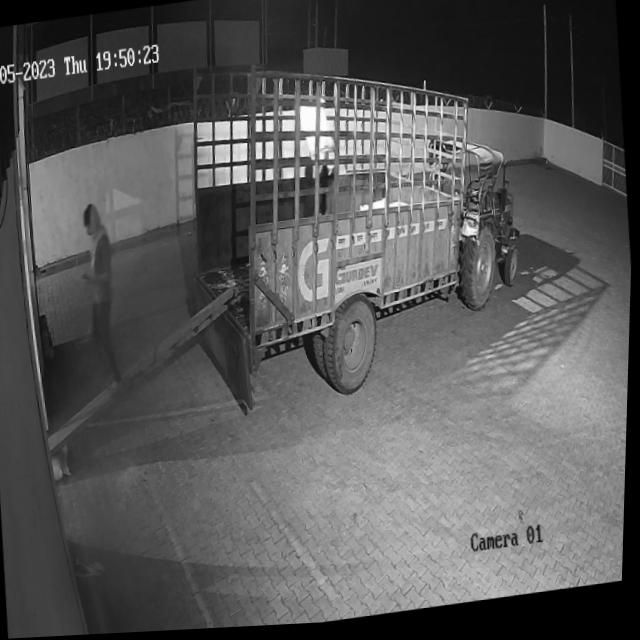sack: (297, 103, 339, 182)
